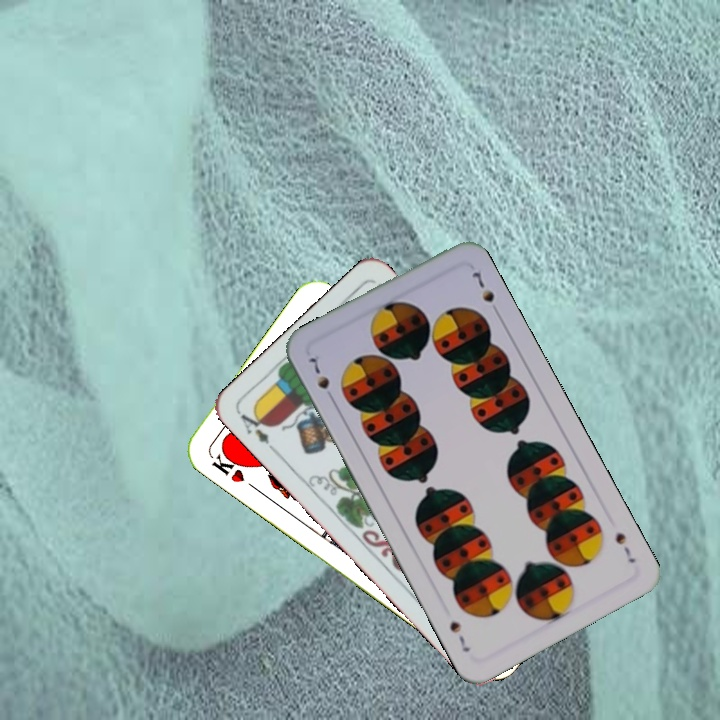EA: (236, 404, 281, 456)
HK: (207, 445, 249, 486)
S7: (306, 353, 338, 405), (611, 527, 639, 566)
